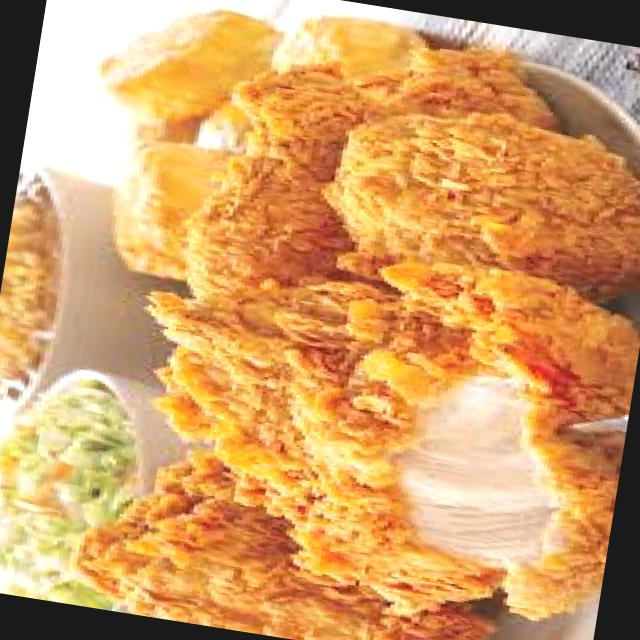organic: (131, 0, 636, 287), (154, 230, 635, 518), (63, 457, 492, 640), (0, 331, 125, 599), (0, 167, 56, 367)
